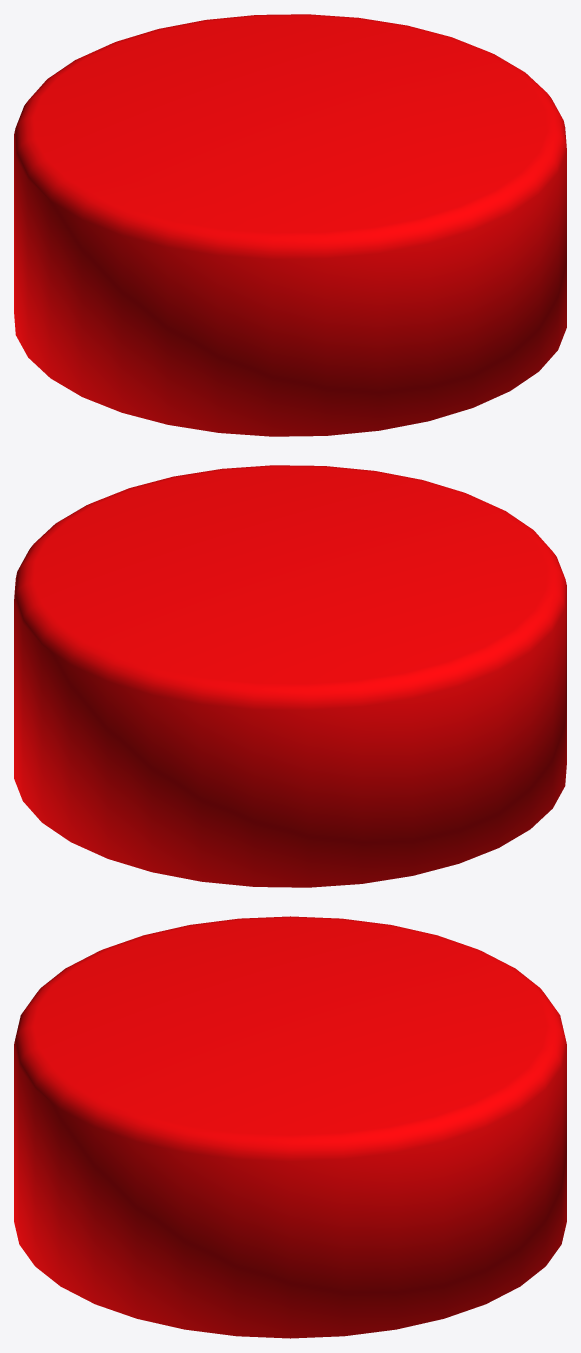
File: Button_button.FBX
3 renders of one model, top to bottom at view 1: azimuth 30°, elevation 25°; view 2: azimuth 150°, elevation 25°; view 3: azimuth 270°, elevation 25°, orthographic.
Parts seen in each view (by area): view 1: Button_button; view 2: Button_button; view 3: Button_button.
Part boxes in pixels (box(x1,y1,x2,y2)): Button_button: box(14, 14, 566, 436); Button_button: box(14, 465, 566, 887); Button_button: box(14, 916, 566, 1338).
Size of what is drawn, in the model's own units: 18 by 18 by 7.
